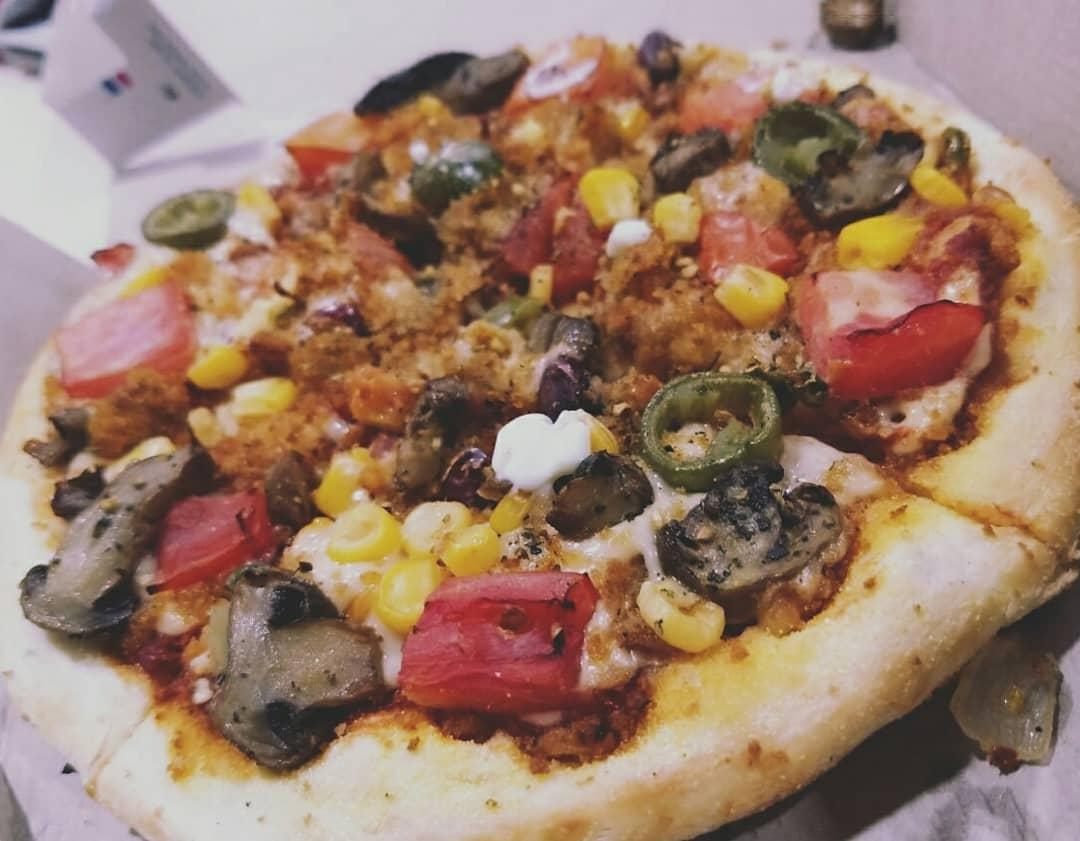Bacon: (793, 258, 1003, 400), (396, 575, 595, 700), (41, 274, 196, 390), (152, 476, 279, 608), (508, 199, 600, 288), (698, 208, 797, 280), (683, 82, 767, 132)
Corn: (643, 579, 719, 648), (839, 216, 920, 266), (716, 263, 784, 320), (398, 500, 465, 557), (309, 450, 370, 508), (329, 505, 391, 559), (378, 563, 432, 625), (582, 168, 644, 218), (441, 527, 506, 573), (195, 342, 247, 389), (229, 180, 281, 226), (912, 165, 967, 207), (233, 376, 287, 416), (655, 196, 701, 238)
Mushroom: (206, 567, 377, 768), (19, 450, 188, 636), (661, 474, 854, 612), (803, 122, 921, 223), (543, 450, 646, 530), (646, 125, 723, 180)
Peppers: (638, 370, 778, 479), (755, 105, 846, 185), (143, 189, 231, 246)
Pizza: (3, 29, 1080, 841)
